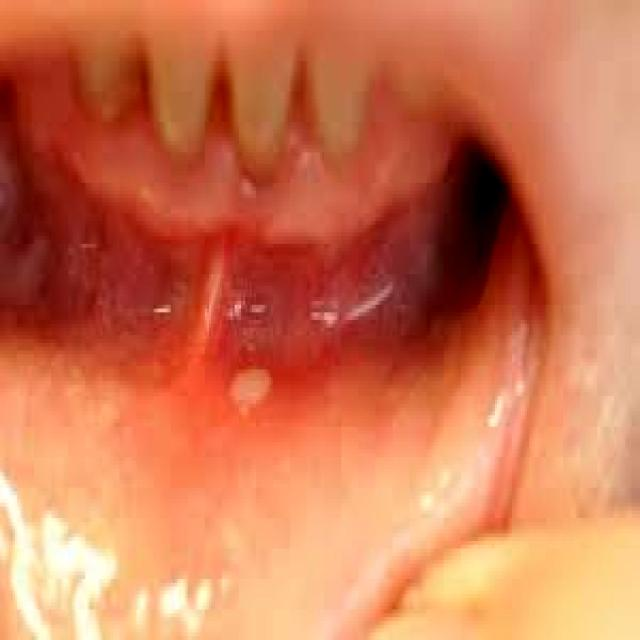ulcer: (230, 370, 271, 408)
